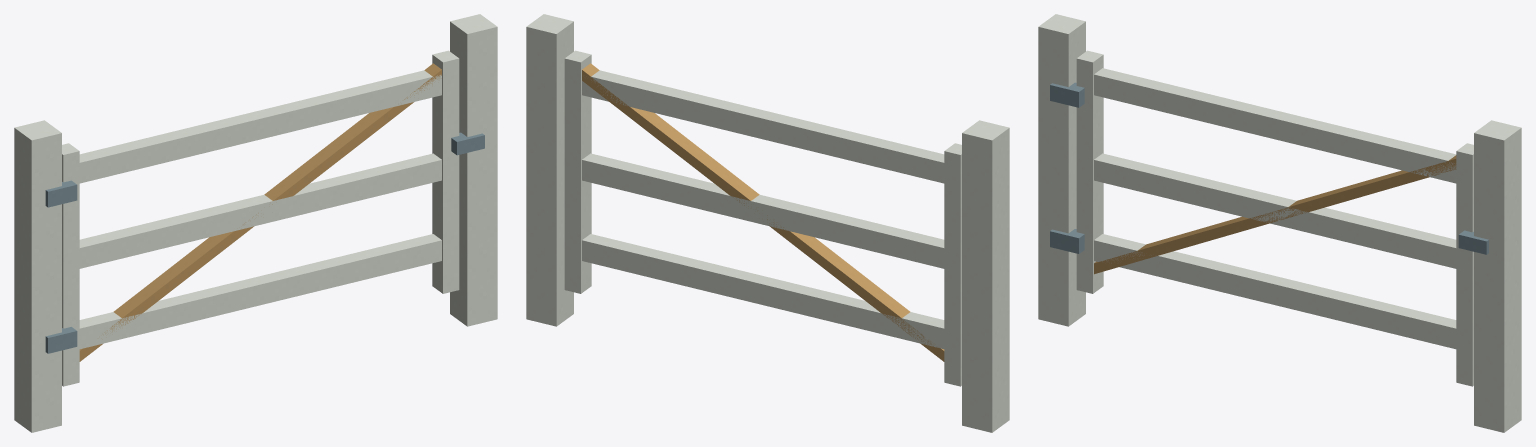
File: low-poly-farm-fence-gate.glb
3 views of the same model, side by side, from view 1: azimuth 30°, elevation 25°; view 2: azimuth 150°, elevation 25°; view 3: azimuth 330°, elevation 25° (orthographic).
Parts seen in each view (by area): view 1: Farm fence post 001, Farm fence post 002, Farm gate rail 007, Farm gate rail 006, Farm gate rail 005, Farm gate diagonal 008, Farm gate stile 004, Farm gate stile 003, Farm gate hinge 010, Farm gate hinge 009, Farm gate latch 011; view 2: Farm fence post 001, Farm fence post 002, Farm gate rail 006, Farm gate rail 005, Farm gate rail 007, Farm gate diagonal 008, Farm gate stile 004, Farm gate stile 003; view 3: Farm fence post 002, Farm fence post 001, Farm gate rail 007, Farm gate rail 006, Farm gate rail 005, Farm gate stile 003, Farm gate diagonal 008, Farm gate stile 004, Farm gate hinge 010, Farm gate hinge 009, Farm gate latch 011.
Boxes of the visible parts, x1,y1,x2,y2 form: Farm fence post 001: [14, 120, 61, 432]; Farm fence post 002: [450, 14, 497, 326]; Farm gate rail 007: [79, 70, 441, 183]; Farm gate rail 006: [79, 153, 441, 268]; Farm gate rail 005: [79, 234, 441, 349]; Farm gate diagonal 008: [79, 63, 441, 361]; Farm gate stile 004: [432, 50, 459, 293]; Farm gate stile 003: [62, 143, 79, 386]; Farm gate hinge 010: [45, 180, 77, 207]; Farm gate hinge 009: [45, 327, 77, 353]; Farm gate latch 011: [451, 132, 484, 155]; Farm fence post 001: [962, 120, 1009, 432]; Farm fence post 002: [526, 14, 573, 326]; Farm gate rail 006: [582, 153, 944, 268]; Farm gate rail 005: [582, 234, 944, 349]; Farm gate rail 007: [582, 70, 944, 183]; Farm gate diagonal 008: [582, 63, 944, 361]; Farm gate stile 004: [564, 50, 591, 293]; Farm gate stile 003: [944, 143, 961, 386]; Farm fence post 002: [1474, 120, 1521, 432]; Farm fence post 001: [1038, 14, 1085, 326]; Farm gate rail 007: [1094, 68, 1456, 183]; Farm gate rail 006: [1094, 153, 1456, 268]; Farm gate rail 005: [1094, 234, 1456, 349]; Farm gate stile 003: [1076, 50, 1103, 293]; Farm gate diagonal 008: [1094, 155, 1456, 274]; Farm gate stile 004: [1456, 143, 1473, 386]; Farm gate hinge 010: [1050, 82, 1084, 107]; Farm gate hinge 009: [1050, 229, 1084, 253]; Farm gate latch 011: [1458, 230, 1488, 254].
Bounding box in the file's own units: 2 × 1.2 × 0.1475.
3 materials, 3 textured.
